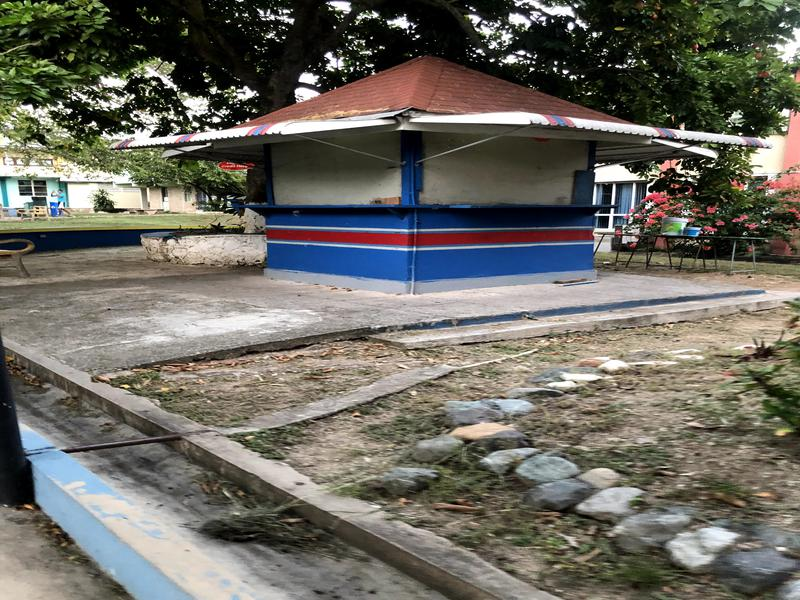18.0050609_-76.7496662_auntyjackie: (216, 46, 626, 295)
